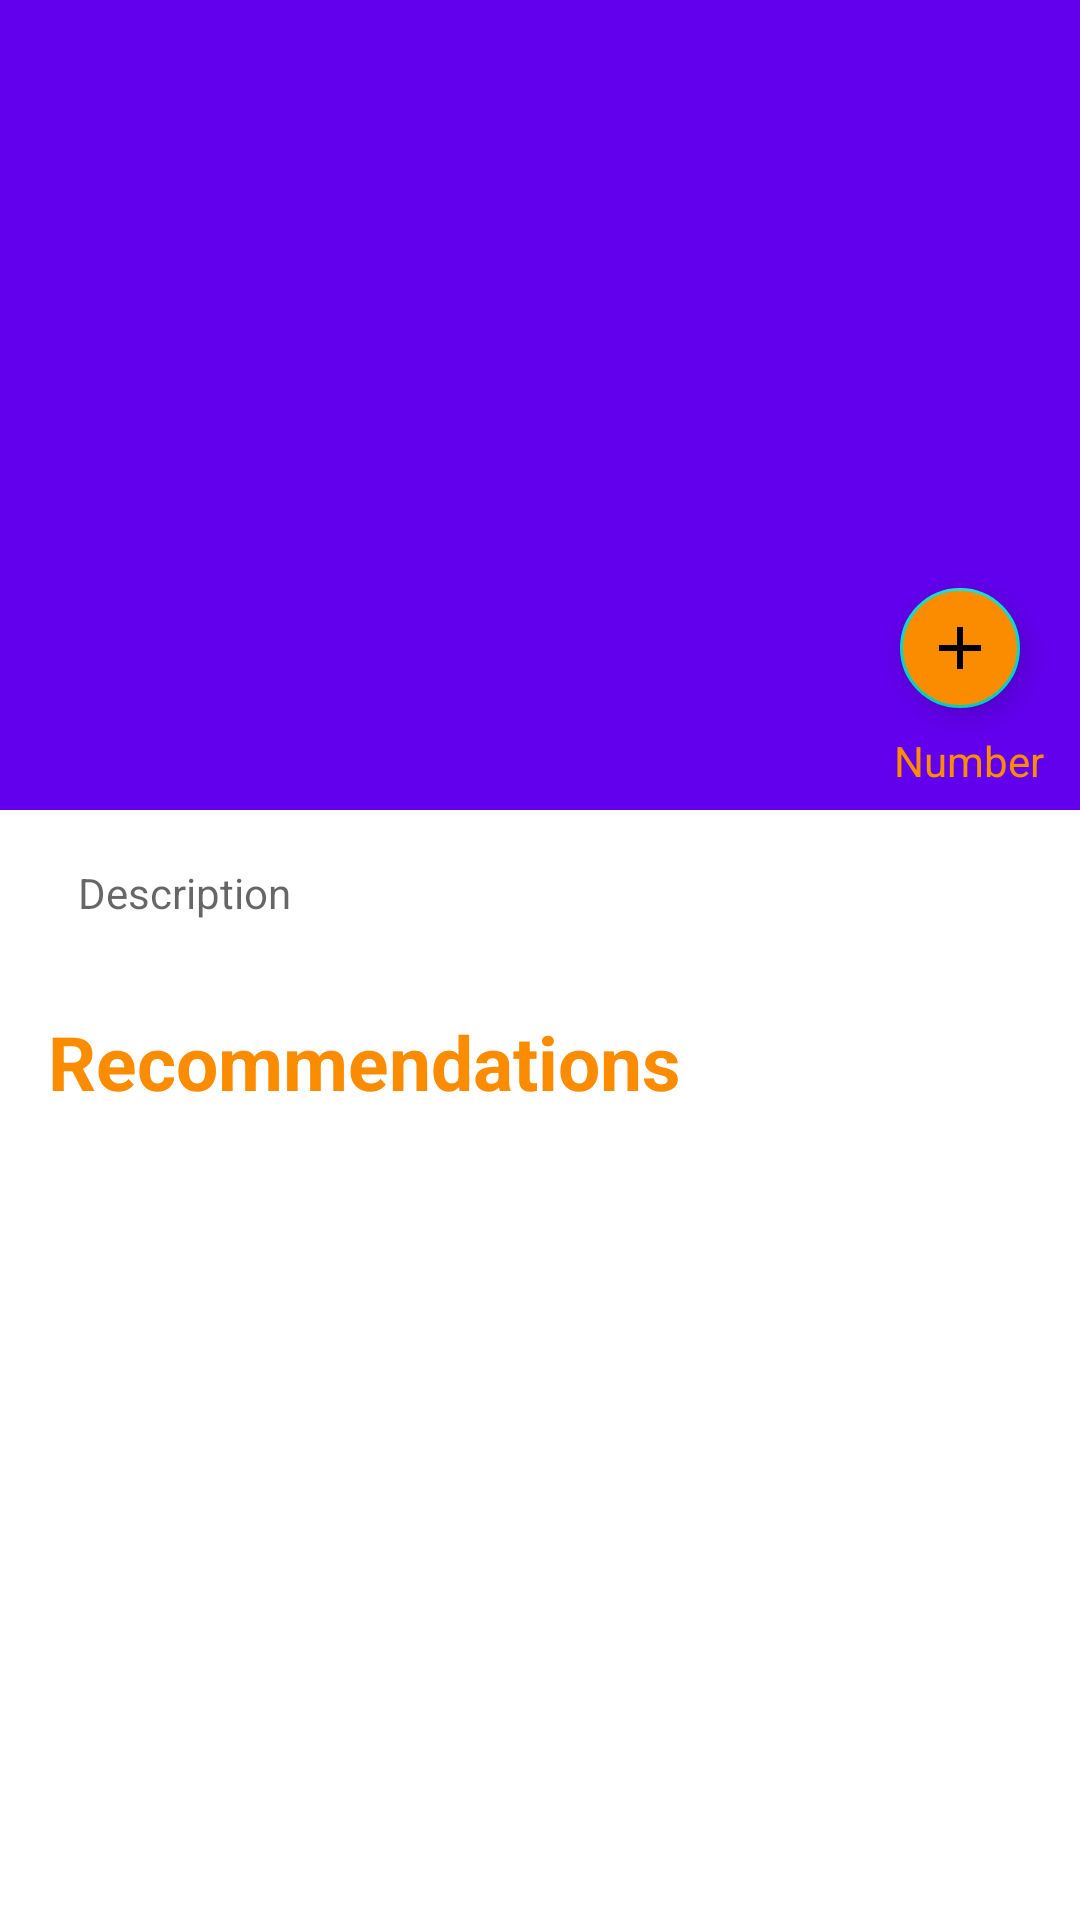

Icons on this 1080 × 1920 Android screen, each with its box as (x1, y1, x2, y2):
add: (900, 588, 1022, 711)
